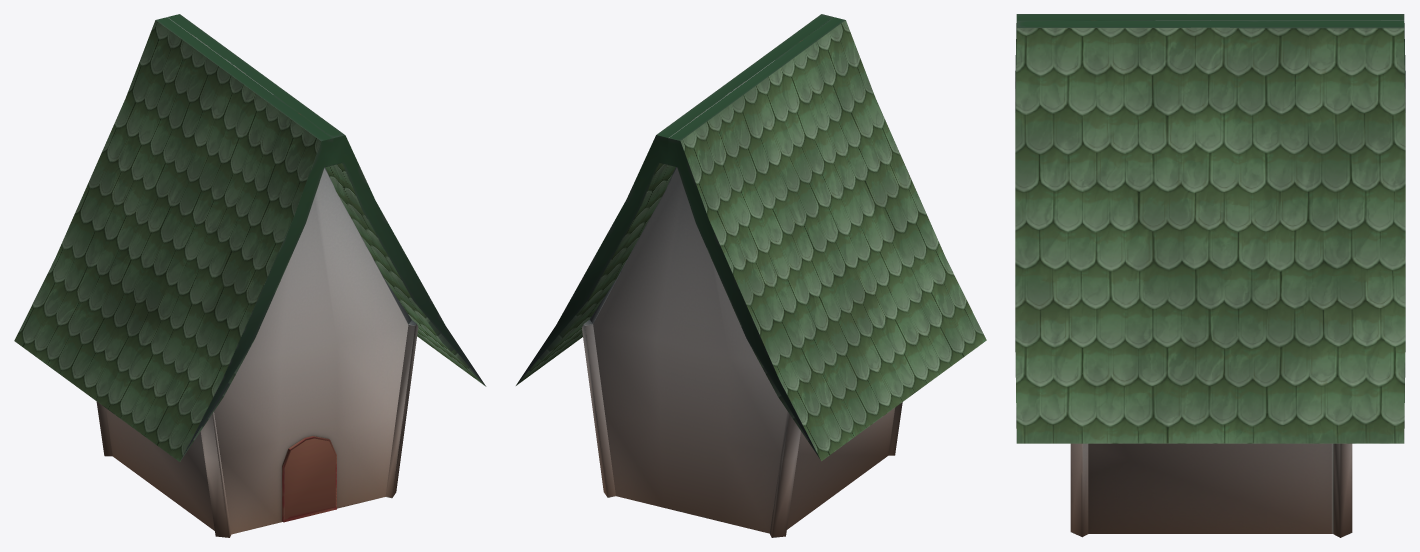
File: House.fbx
The picture shows the model from 3 angles, left to right: view 1: azimuth 30°, elevation 25°; view 2: azimuth 150°, elevation 25°; view 3: azimuth 270°, elevation 25°; orthographic projection. The views are drawn at different scales.
Visible parts, largest first — view 1: Cube.004; view 2: Cube.004; view 3: Cube.004.
Boxes of the visible parts, x1,y1,x2,y2 form: Cube.004: (14,14,486,537); Cube.004: (516,14,986,537); Cube.004: (1015,14,1405,537).
Size of the model in its own units: 1303 by 1611 by 1227.
Materials: 1 (1 with a texture image).
